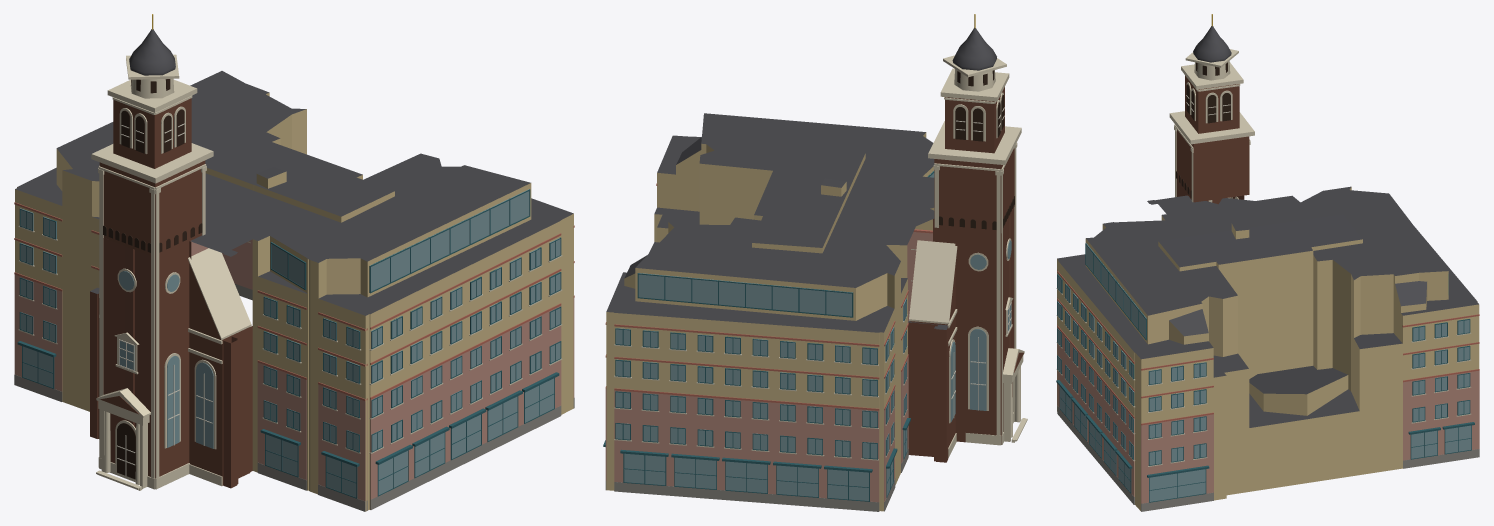
The model's file is muiderkerk.glb.
3 renders of one model, left to right at view 1: azimuth 30°, elevation 25°; view 2: azimuth 150°, elevation 25°; view 3: azimuth 270°, elevation 25°, orthographic. The views are drawn at different scales.
Visible parts, largest first — view 1: muiderkerk; view 2: muiderkerk; view 3: muiderkerk.
Part boxes in pixels (box(x1,y1,x2,y2)): muiderkerk: box(14, 14, 574, 511); muiderkerk: box(603, 14, 1027, 511); muiderkerk: box(1056, 14, 1479, 511).
Size of the model in its own units: 42.98 by 43.35 by 46.96.
